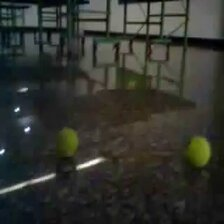tennis: (186, 135, 212, 168), (55, 126, 79, 157)
